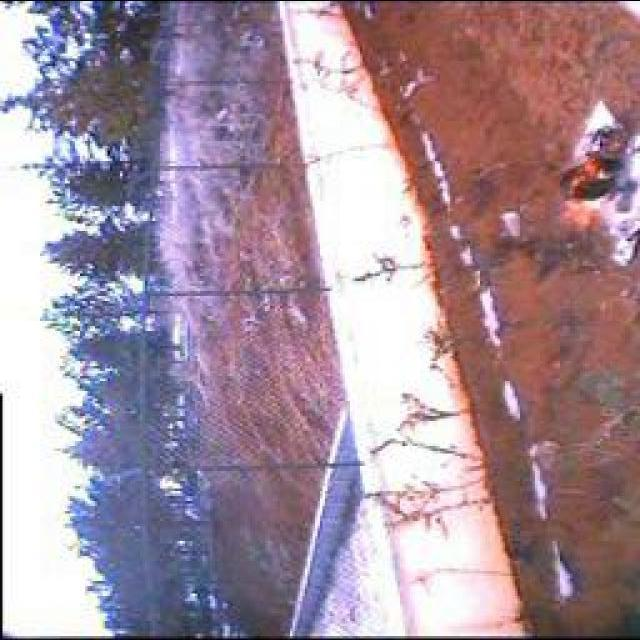Fire: (558, 120, 628, 242)
